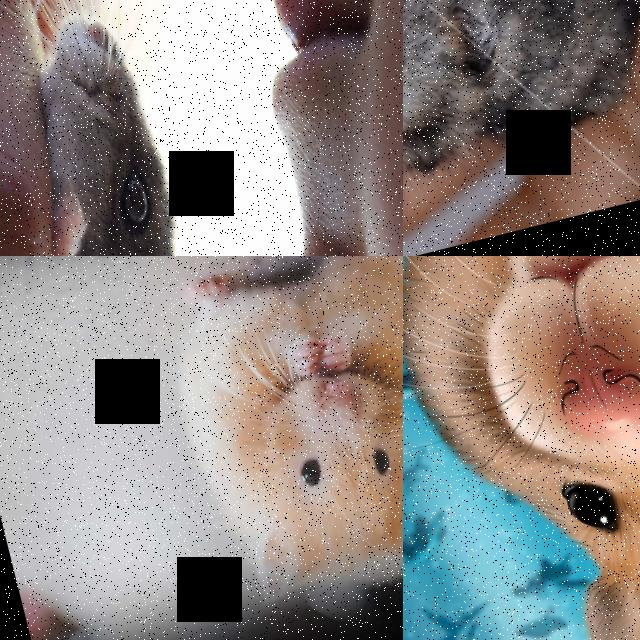hamster: (147, 256, 403, 619), (403, 256, 640, 640), (0, 3, 228, 256), (403, 0, 640, 207)
